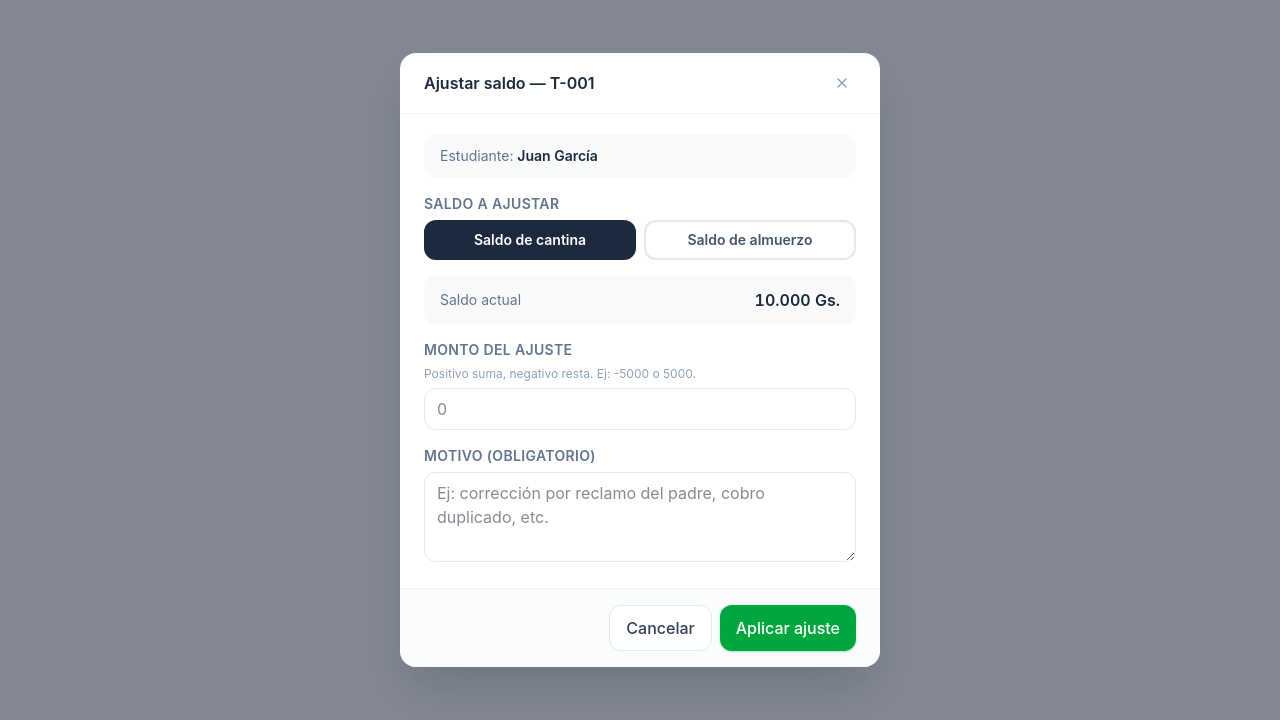
Test: ModalAjustarSaldo › cambia a saldo de almuerzo al hacer click, y muestra ese saldo
The width and height of the screenshot is (1280, 720).
Click the button "Saldo de almuerzo".
click(750, 240)  # box x1=644 y1=220 x2=856 y2=260
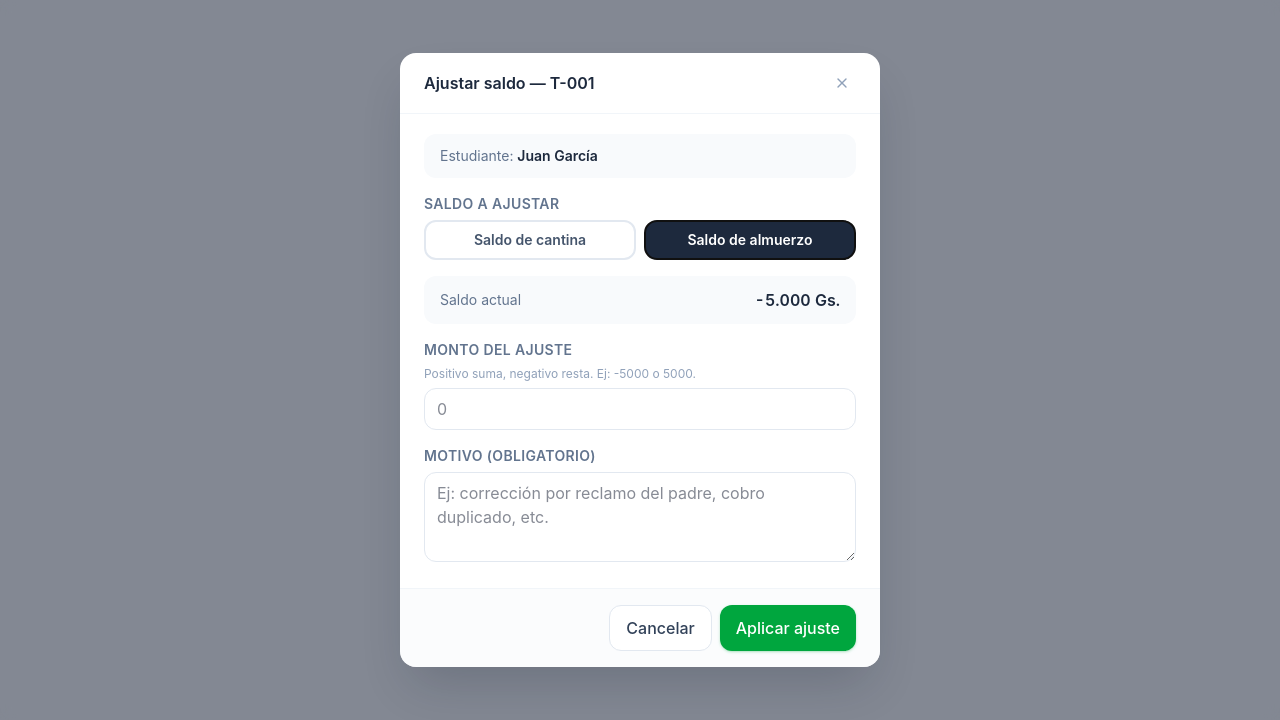
Check: the text "-5.000 Gs." is shown, box x1=755 y1=288 x2=840 y2=312
